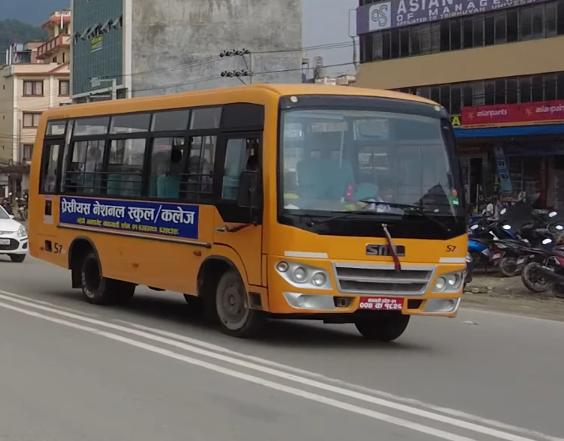school_bus: (25, 81, 469, 346)
